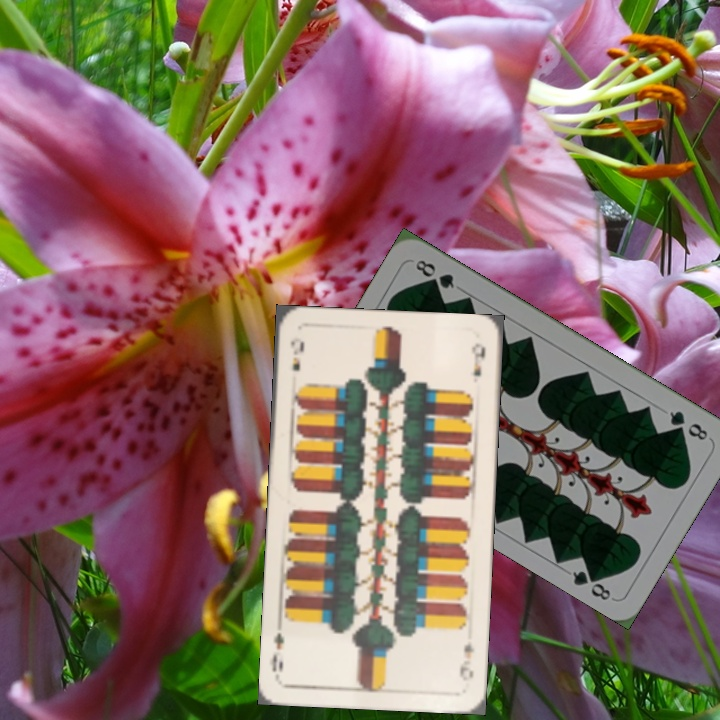E9: (456, 638, 476, 683), (286, 336, 307, 374)
G8: (665, 407, 711, 443)
